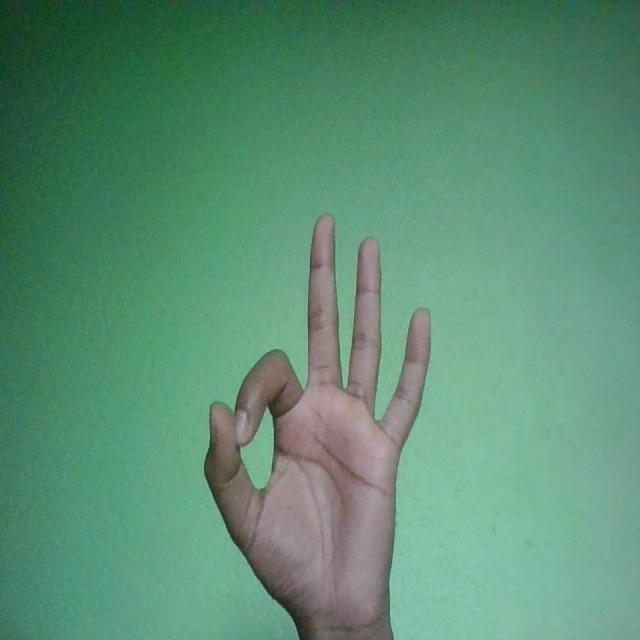Rock On: (204, 214, 431, 632)
